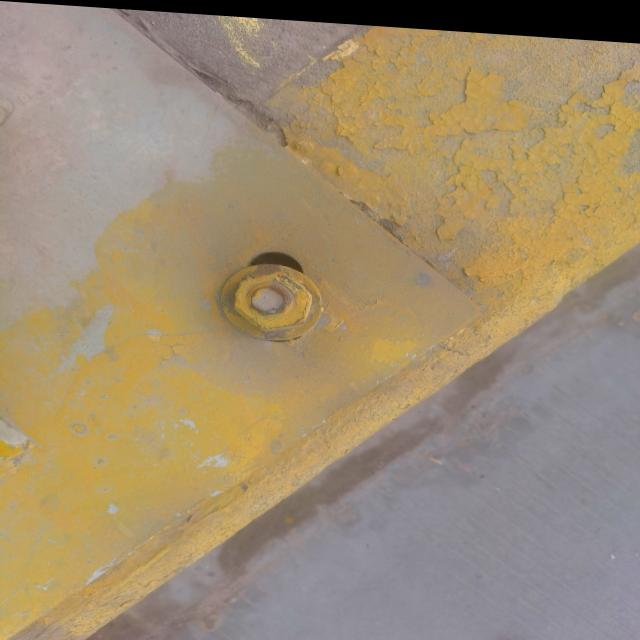Regular bolt: (235, 266, 314, 330)
